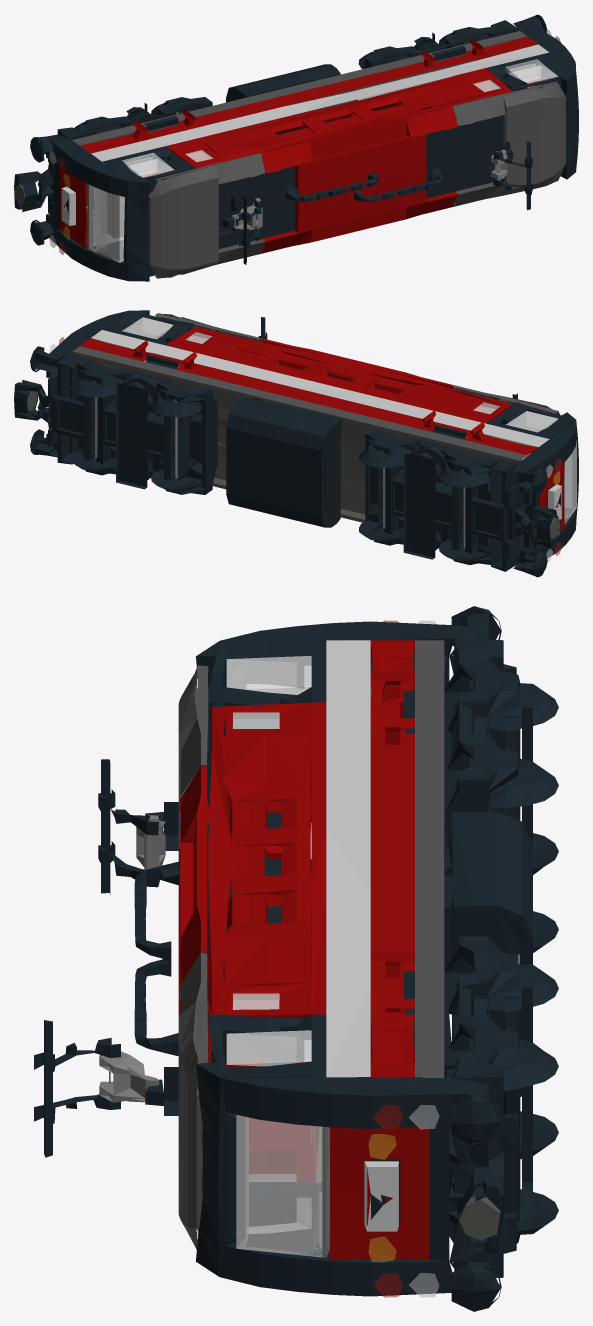
The model's file is modern-urban-electric-locomotive.glb.
3 views of the same model, one above another, from view 1: azimuth 30°, elevation 25°; view 2: azimuth 150°, elevation 25°; view 3: azimuth 270°, elevation 25° (orthographic). The views are drawn at different scales.
Size of the model in its own units: 268 by 59.2 by 114.
